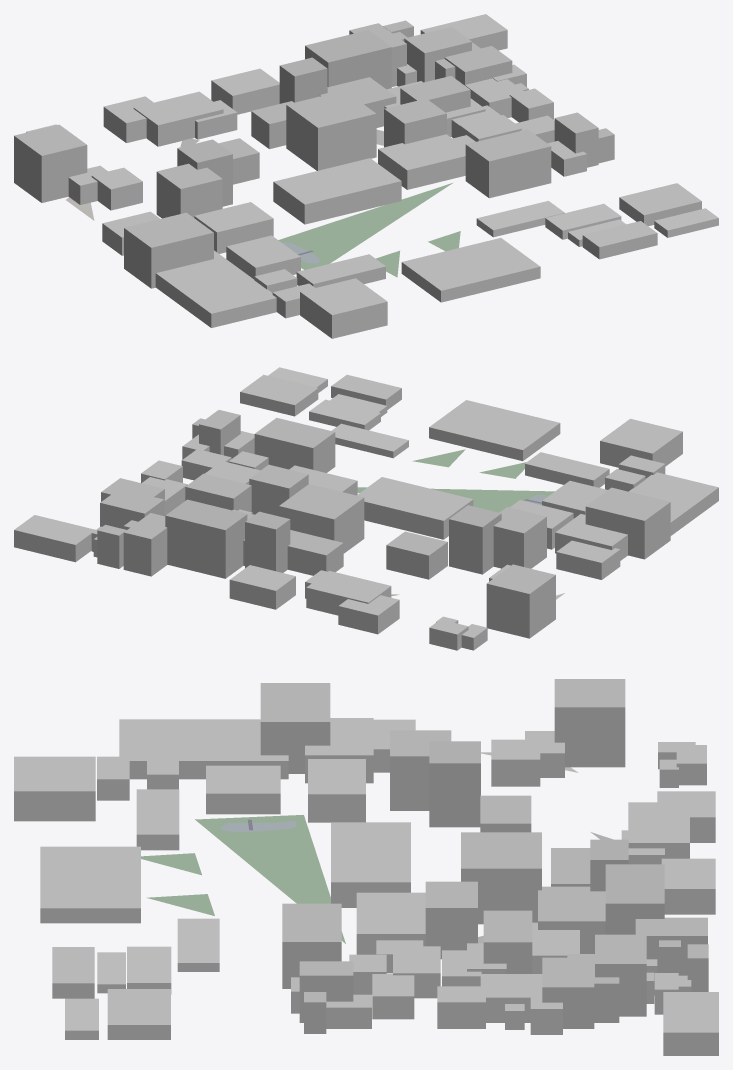
Rendered from 116_96_mid.glb.
3 views of the same model, one above another, from view 1: azimuth 30°, elevation 25°; view 2: azimuth 150°, elevation 25°; view 3: azimuth 270°, elevation 25° (orthographic). The views are drawn at different scales.
Size of the model in its own units: 564 by 54.27 by 526.
